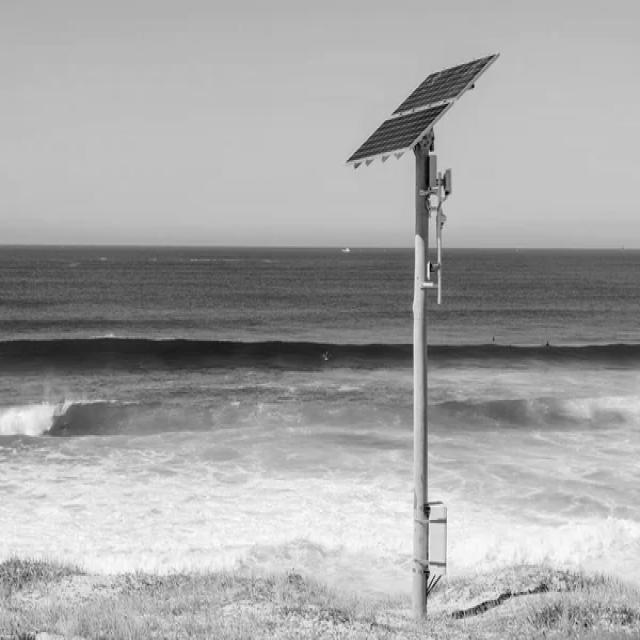Pole: (346, 53, 499, 618)
